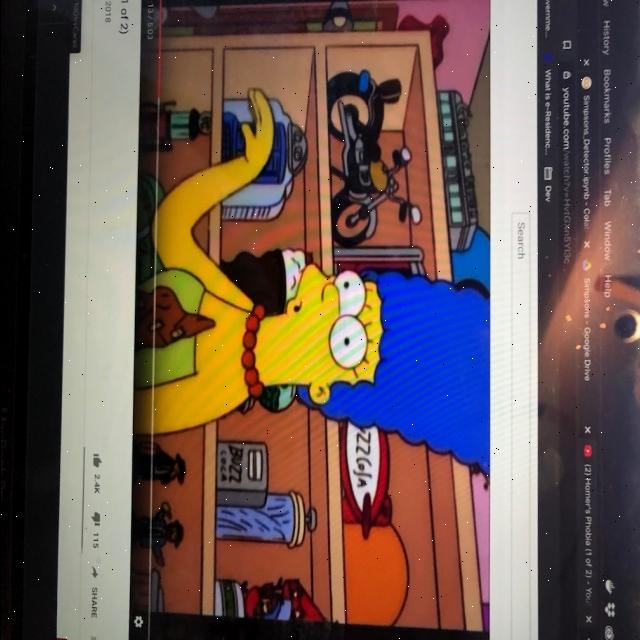Marge Simpson: (237, 258, 491, 484)
